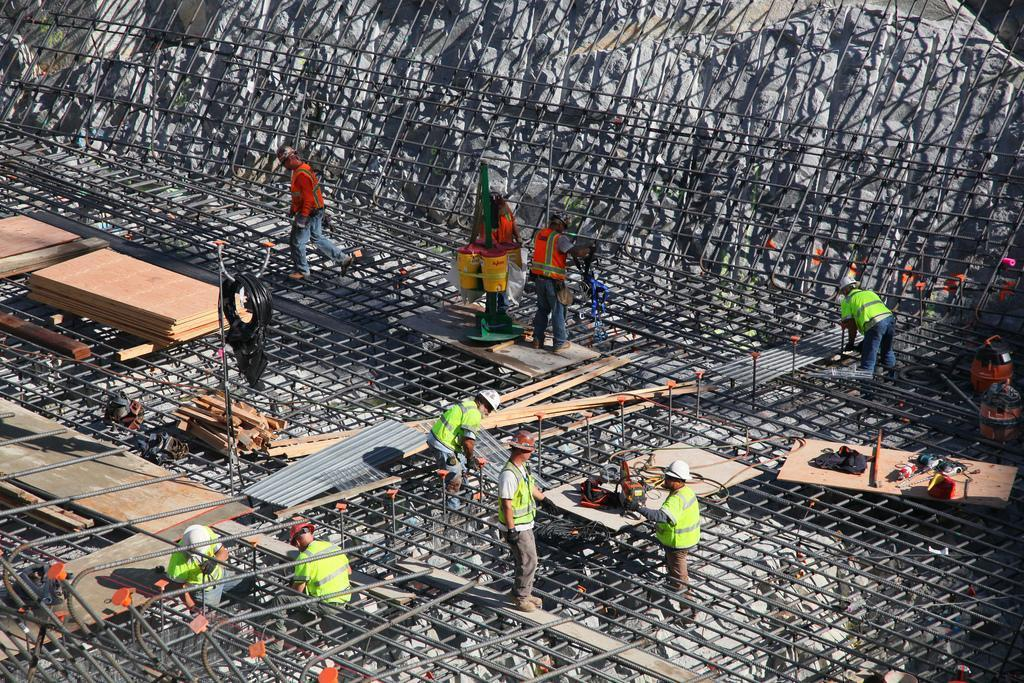vest: (294, 537, 356, 612), (650, 488, 706, 555), (160, 543, 230, 595), (497, 457, 541, 539), (833, 282, 899, 336), (429, 395, 483, 455), (527, 222, 570, 280), (286, 162, 329, 220)
